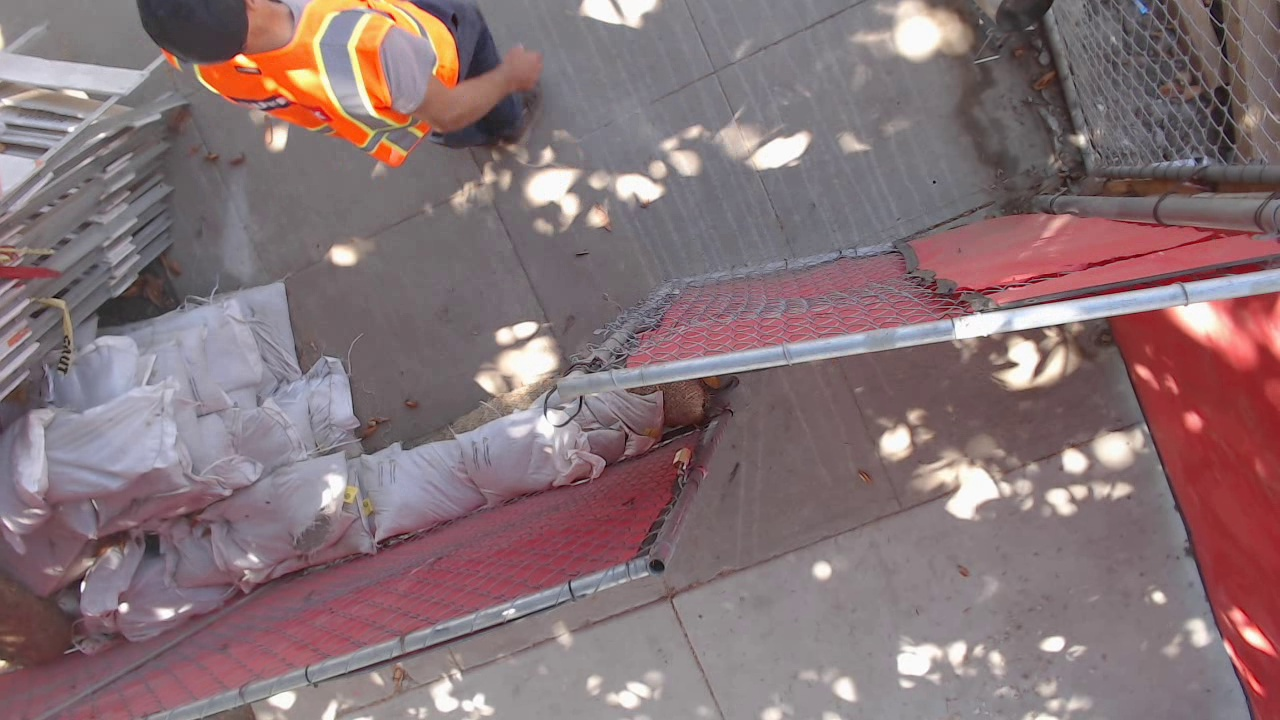person: (136, 1, 549, 168)
safetyvest: (162, 1, 460, 167)
